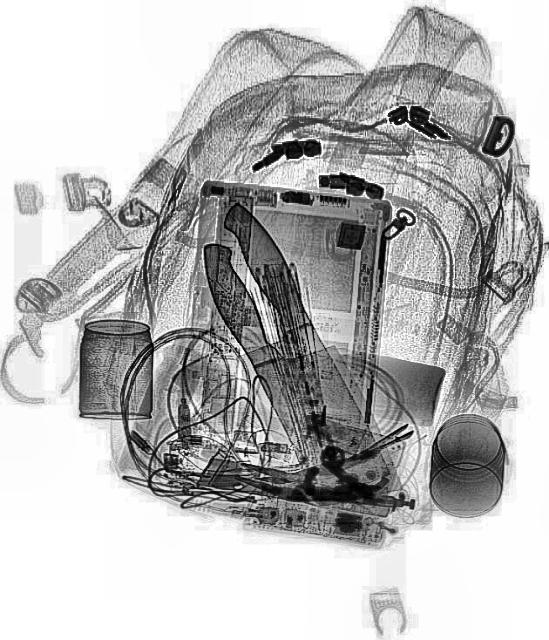Knife: (172, 190, 393, 522), (190, 207, 406, 528)
